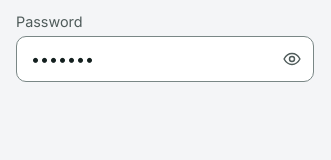
Test case: PasswordInput › hides the password until the eye is pressed, then hides it again
This screenshot has width=331, height=160.
Later steps or results of the test are not shown.
Click the button named "Show password": (292, 58) [270,36,314,82]
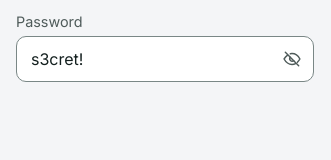
Expected: the field labelled "Password" holds "s3cret!", [16,36,314,82]
Expected: the button named "Hide password" is pressed, [270,36,314,82]
